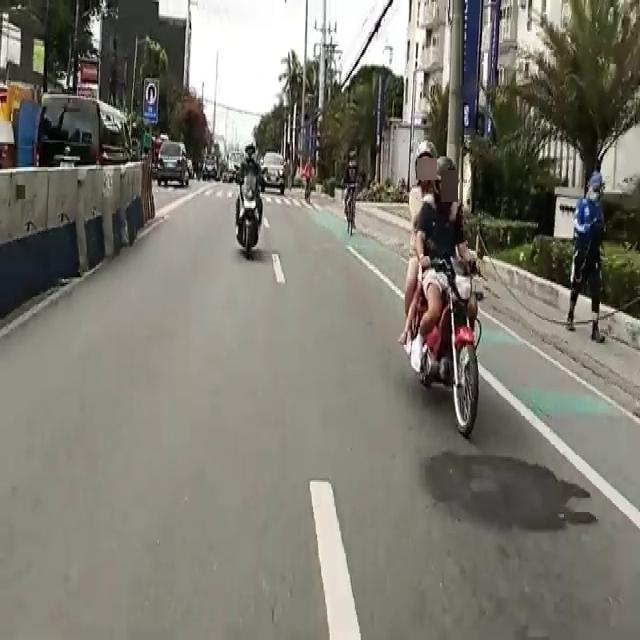car: (39, 97, 131, 187), (156, 142, 184, 190), (258, 152, 288, 191)
motorcycle: (392, 153, 484, 396), (218, 147, 266, 257)
